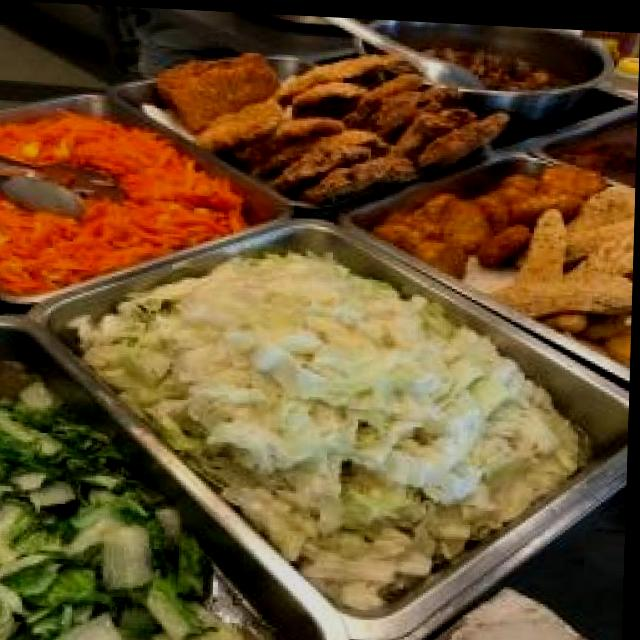carrot_eggs: (0, 125, 202, 273)
chinese_cabbage: (178, 268, 529, 525)
triangle_hash_brown: (394, 171, 544, 265)
